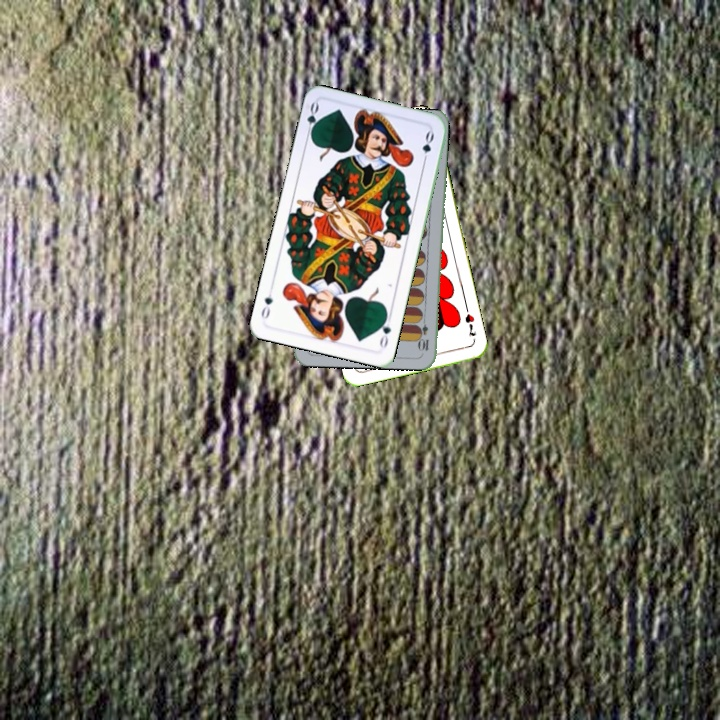E10: (417, 313, 431, 353)
GO: (302, 99, 322, 140), (375, 310, 394, 350)
H7: (461, 310, 479, 339)
